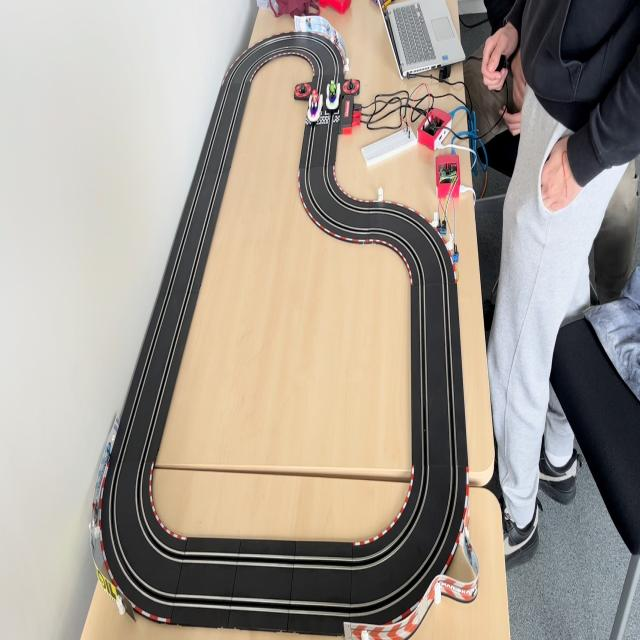mario: (308, 90, 324, 124)
yoshi: (324, 78, 340, 112)
